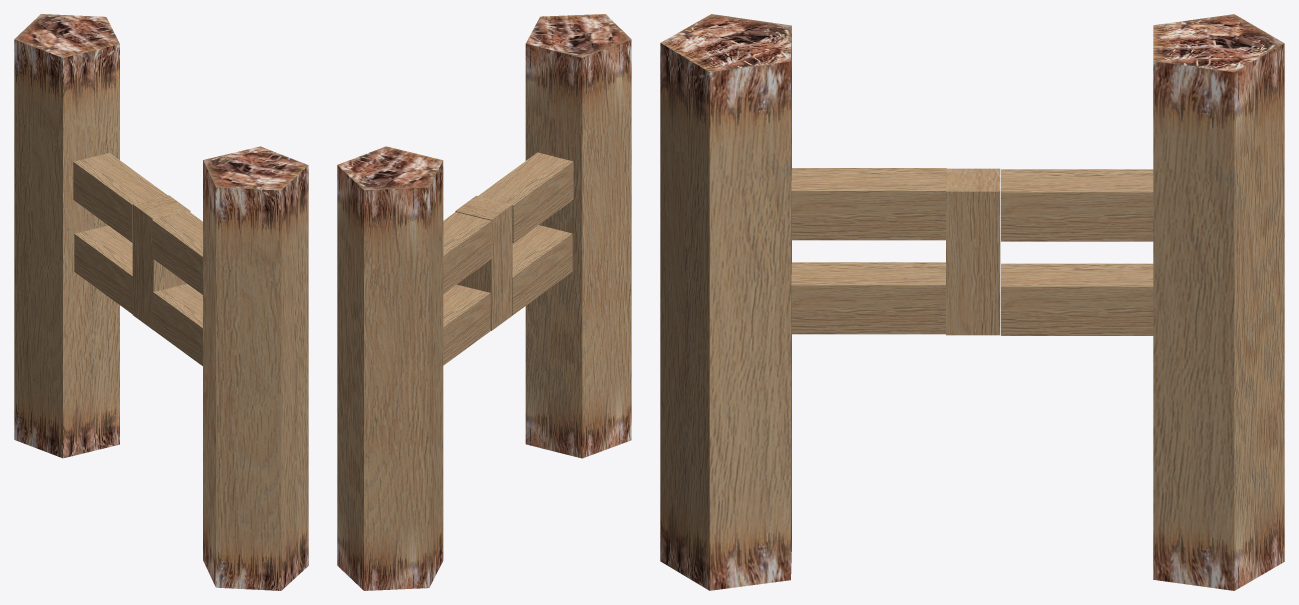
The model's file is gate.obj.
3 renders of one model, left to right at view 1: azimuth 30°, elevation 25°; view 2: azimuth 150°, elevation 25°; view 3: azimuth 270°, elevation 25°, orthographic. The views are drawn at different scales.
Visible parts, largest first — view 1: Cylinder.001_Cylinder, Cylinder, Cube_Cube.001, Cube.002_Cube.001, Cube.001, Cube.003_Cube.001, Cube.004_Cube.001; view 2: Cylinder, Cylinder.001_Cylinder, Cube.003_Cube.001, Cube.002_Cube.001, Cube.004_Cube.001, Cube_Cube.001, Cube.001; view 3: Cylinder, Cylinder.001_Cylinder, Cube.003_Cube.001, Cube.004_Cube.001, Cube_Cube.001, Cube.001, Cube.002_Cube.001.
Boxes of the visible parts, bbox=[...] form: Cylinder.001_Cylinder: bbox=[203, 146, 308, 590]; Cylinder: bbox=[14, 14, 119, 458]; Cube_Cube.001: bbox=[73, 153, 167, 242]; Cube.002_Cube.001: bbox=[132, 195, 190, 329]; Cube.001: bbox=[74, 225, 132, 313]; Cube.003_Cube.001: bbox=[152, 211, 202, 294]; Cube.004_Cube.001: bbox=[153, 284, 202, 365]; Cylinder: bbox=[337, 146, 443, 590]; Cylinder.001_Cylinder: bbox=[525, 14, 631, 458]; Cube.003_Cube.001: bbox=[478, 152, 573, 243]; Cube.002_Cube.001: bbox=[455, 195, 512, 330]; Cube.004_Cube.001: bbox=[512, 225, 572, 315]; Cube_Cube.001: bbox=[443, 212, 491, 293]; Cube.001: bbox=[443, 284, 490, 365]; Cylinder: bbox=[1153, 14, 1284, 590]; Cylinder.001_Cylinder: bbox=[660, 14, 791, 590]; Cube.003_Cube.001: bbox=[791, 168, 946, 240]; Cube.004_Cube.001: bbox=[791, 262, 945, 334]; Cube_Cube.001: bbox=[1001, 169, 1153, 241]; Cube.001: bbox=[1001, 263, 1153, 335]; Cube.002_Cube.001: bbox=[946, 168, 1000, 335].
Bounding box in the file's own units: 0.8319 × 3.45 × 3.76.
2 materials, 2 textured.
